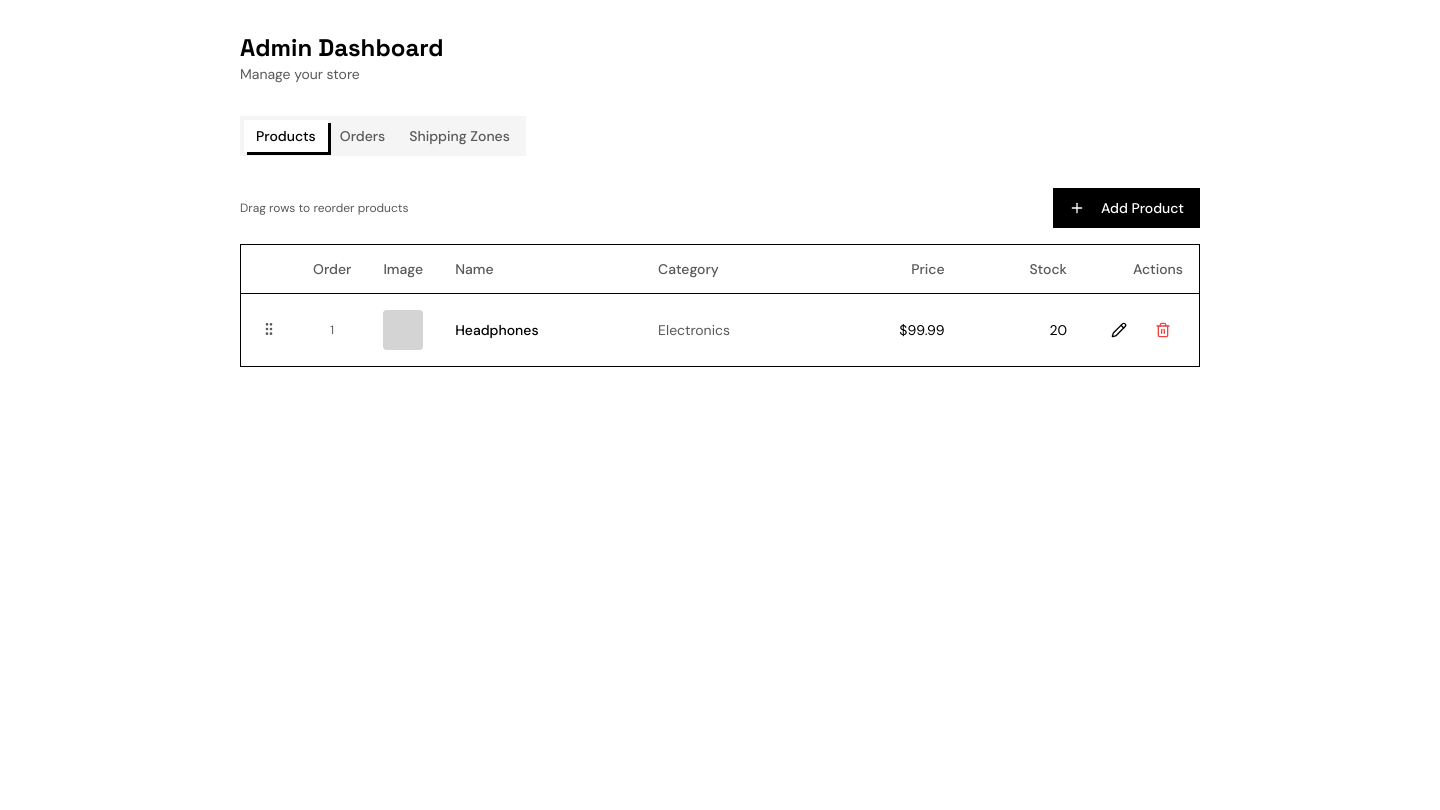
Test case: AdminPage callbacks › uploads image and sets form image_url
Click the button "Add Product": [1126, 208] box [1053, 188, 1200, 228]
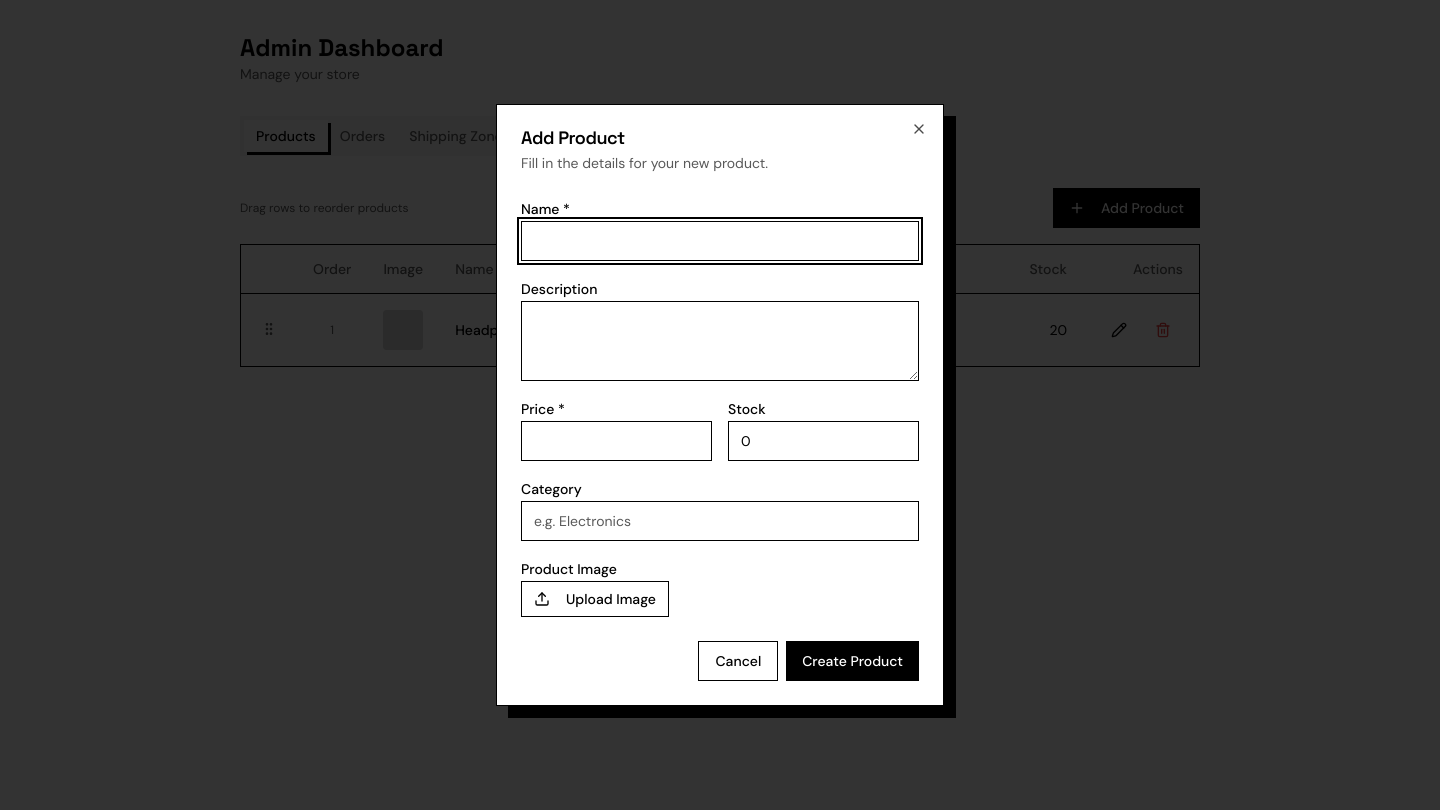
Now the file field labelled "Upload Image" is shown, box [521, 581, 669, 617]
